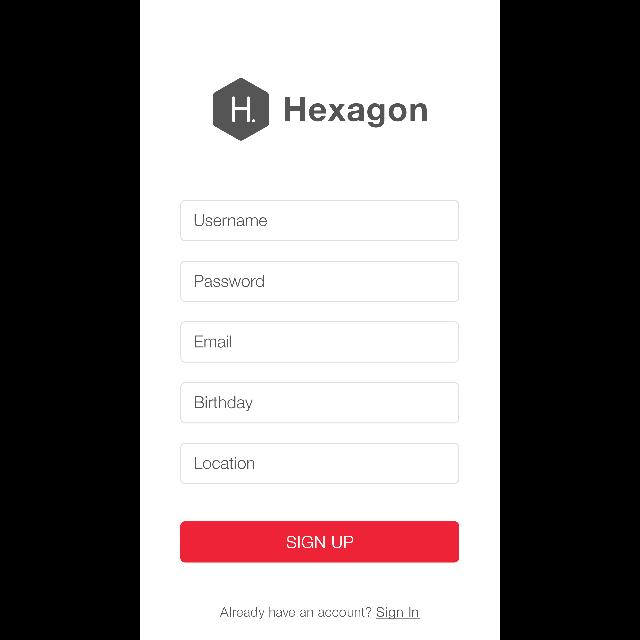image: (213, 78, 269, 142)
input: (180, 200, 460, 242), (180, 382, 460, 423), (180, 262, 460, 302), (180, 322, 460, 362), (180, 444, 460, 484)
text: (285, 98, 427, 128), (220, 606, 420, 620), (195, 396, 253, 412), (195, 214, 267, 226), (196, 275, 264, 287), (195, 456, 255, 469), (194, 336, 232, 348)
textbutton: (180, 522, 460, 562)
